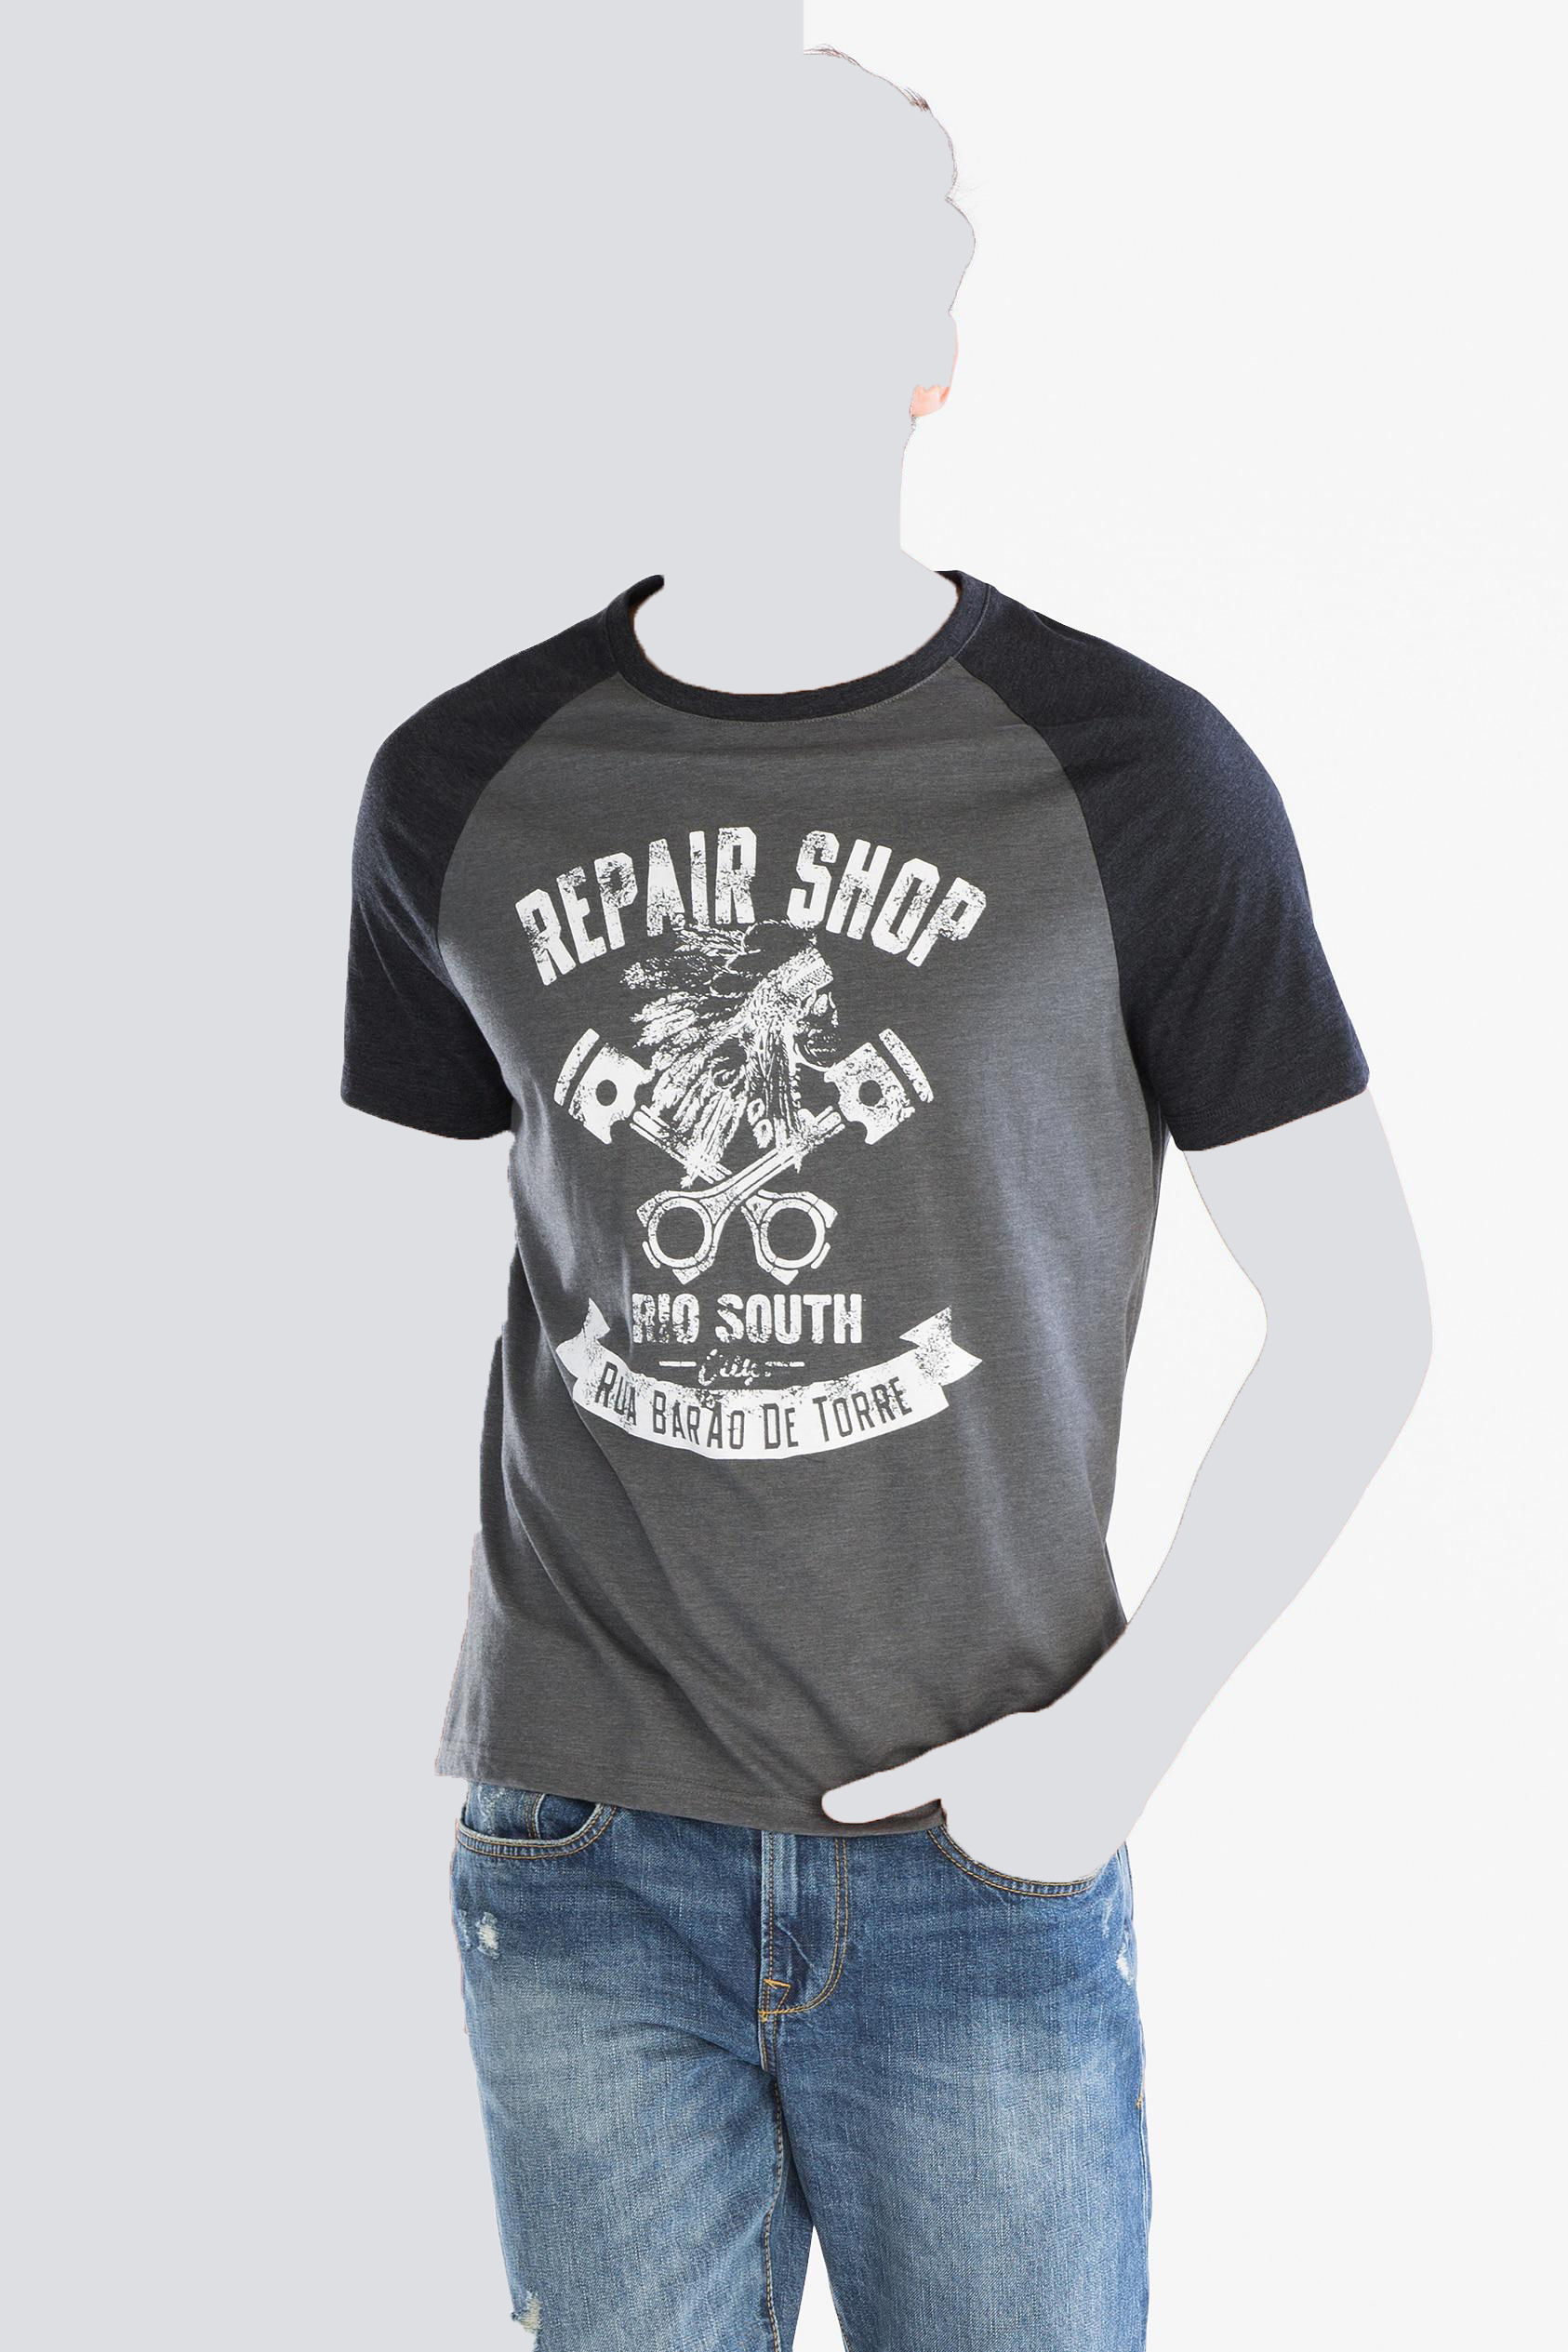teeshirt: (292, 574, 1382, 1844)
